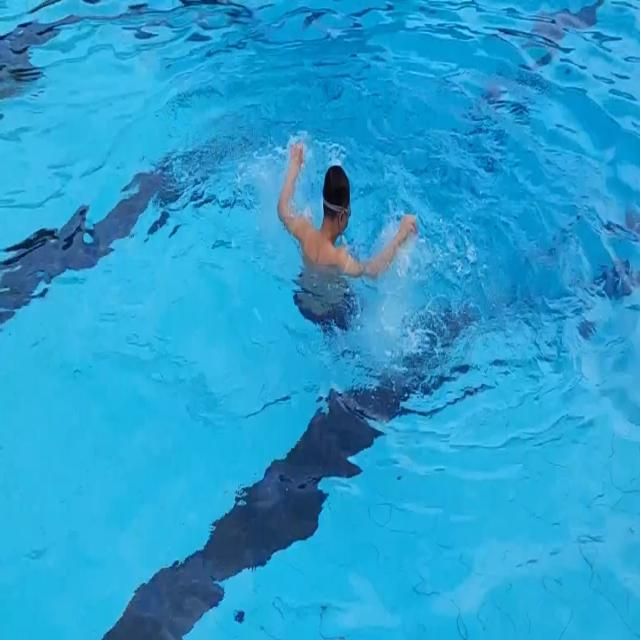Drowning: (275, 137, 419, 333)
